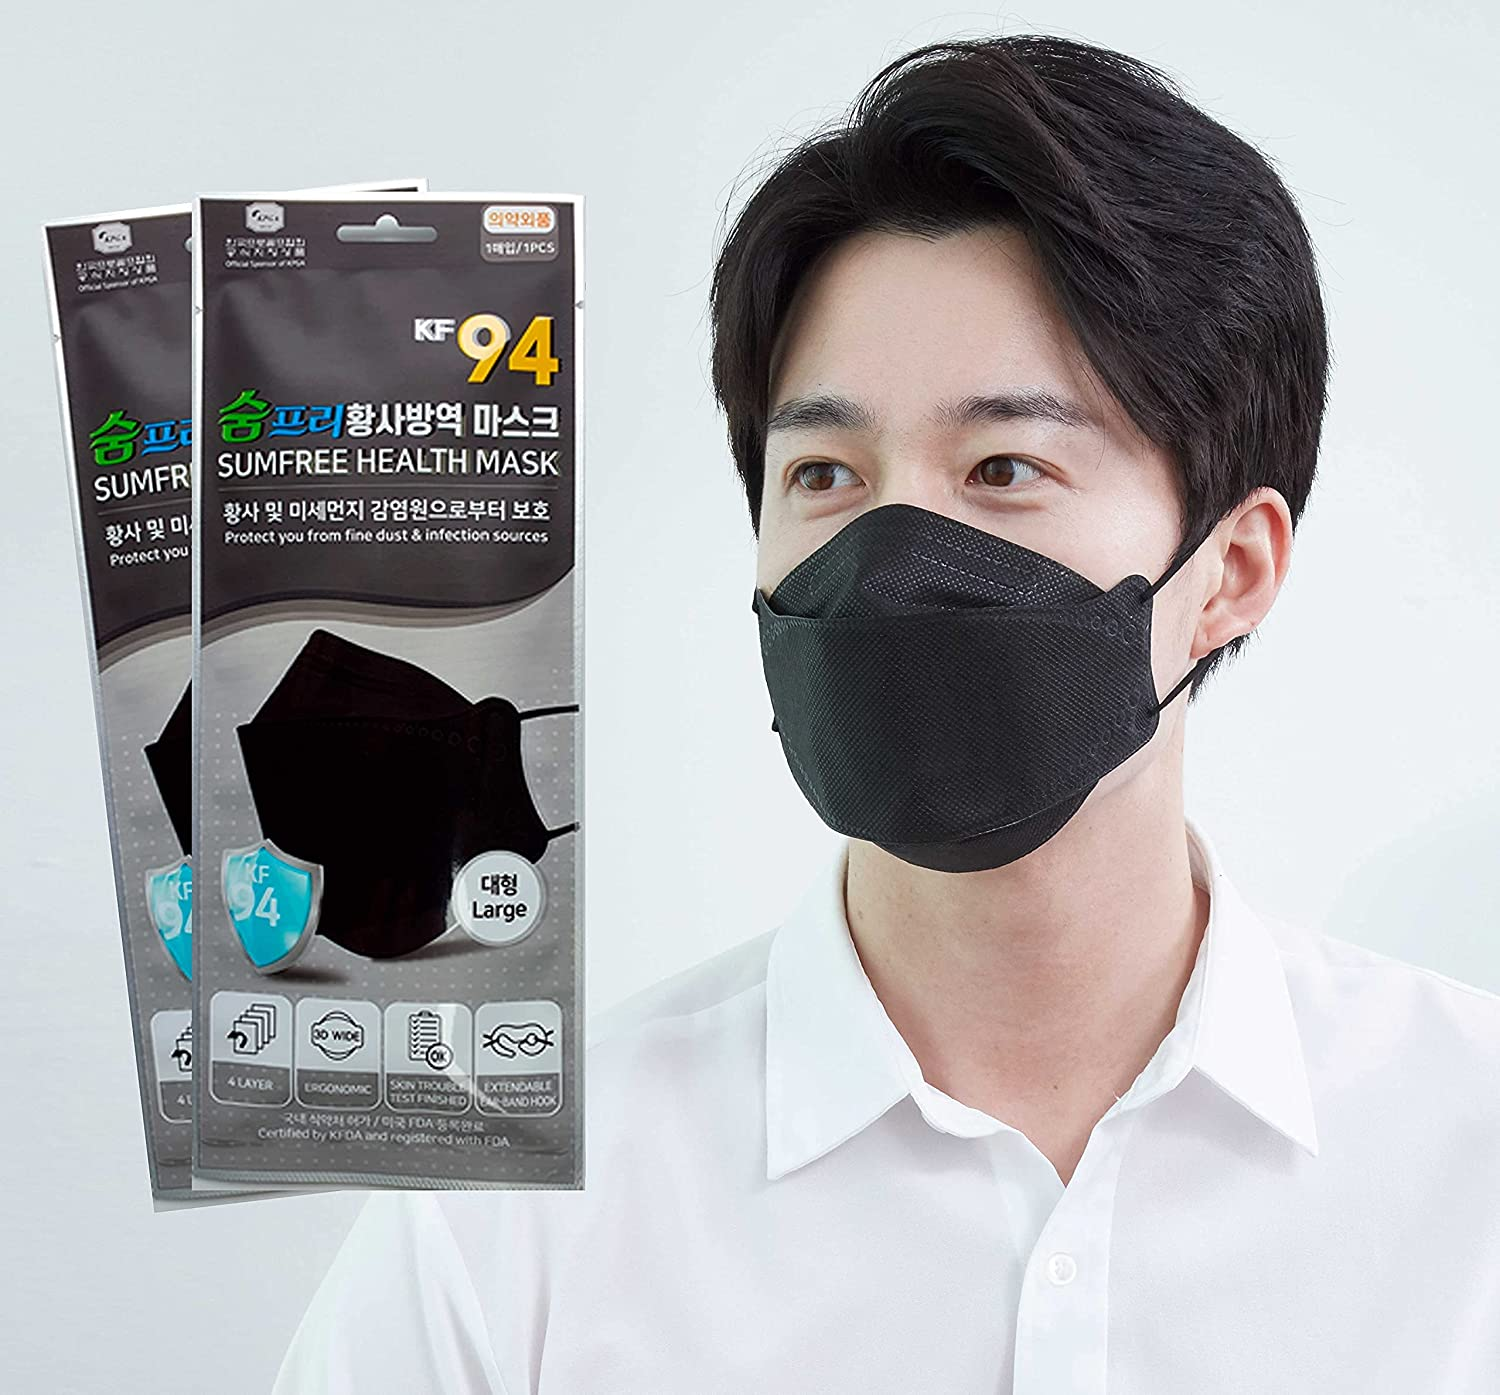mask: (747, 493, 1188, 865)
person: (586, 33, 1500, 1395)
